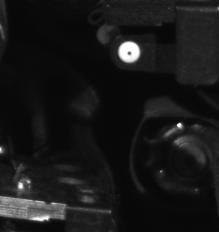fiber: (115, 37, 143, 67)
